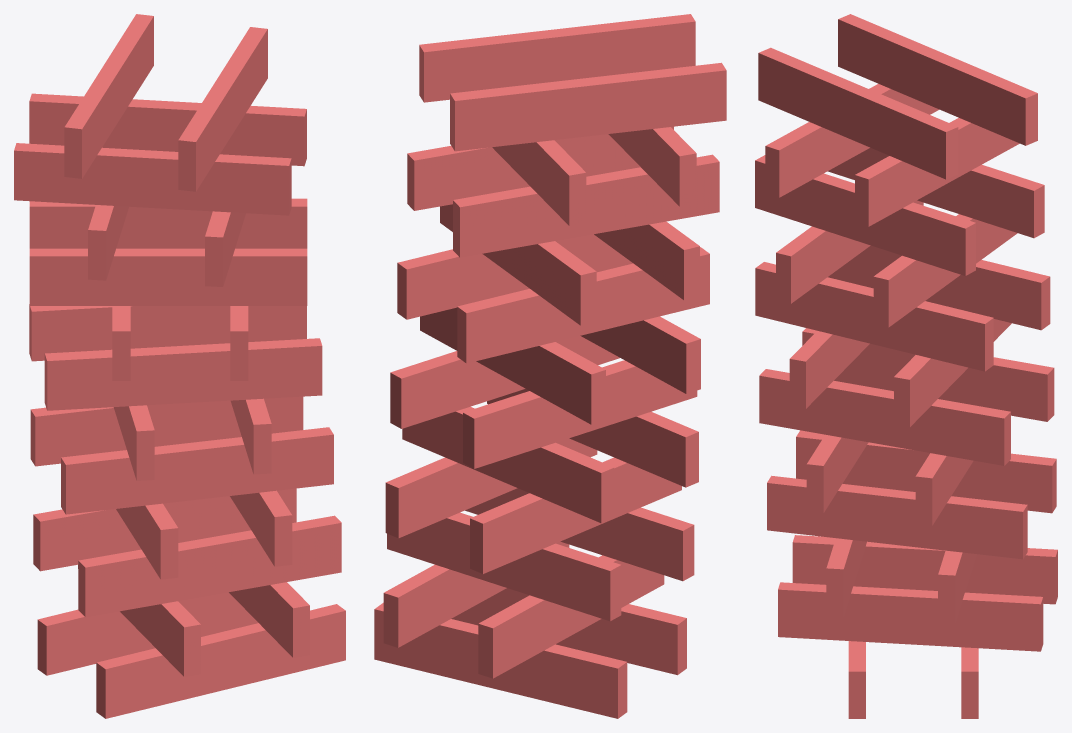
The model's file is keva_24_plank_spiral_tower_structure.dae.
3 views of the same model, side by side, from view 1: azimuth 30°, elevation 25°; view 2: azimuth 150°, elevation 25°; view 3: azimuth 270°, elevation 25° (orthographic). The views are drawn at different scales.
Parts seen in each view (by area): view 1: base (×24); view 2: base (×24); view 3: base (×24).
Boxes of the visible parts, x1,y1,x2,y2 form: base (×24): (14, 14, 345, 718); base (×24): (374, 14, 726, 718); base (×24): (755, 14, 1057, 718).
Size of the model in its own units: 0.1425 by 0.1344 by 0.2811.
